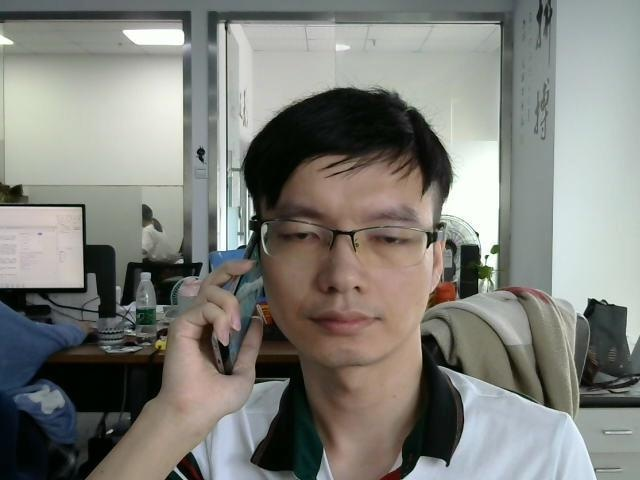hand: (164, 259, 262, 409)
